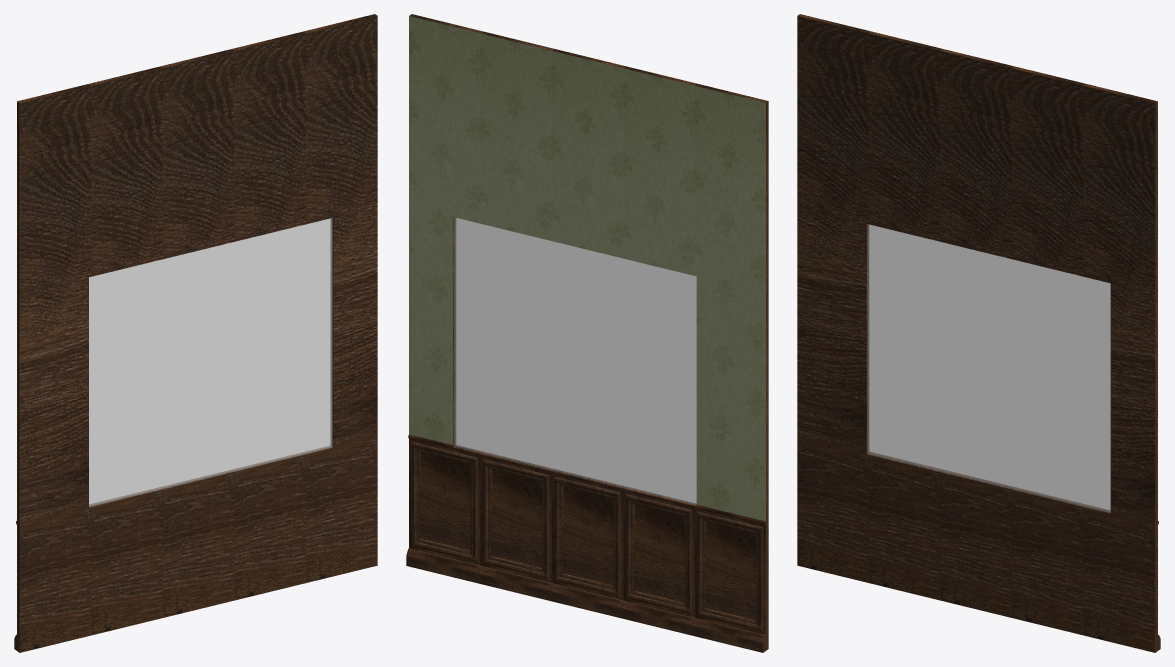
File: Mur_FenetreLarge.fbx
The picture shows the model from 3 angles, left to right: view 1: azimuth 30°, elevation 25°; view 2: azimuth 150°, elevation 25°; view 3: azimuth 330°, elevation 25°; orthographic projection.
Visible parts, largest first — view 1: Cube, Cube.001; view 2: Cube, Cube.001; view 3: Cube, Cube.001.
Boxes of the visible parts, x1,y1,x2,y2 form: Cube: (14,14,377,652); Cube.001: (89,218,332,506); Cube: (406,14,768,652); Cube.001: (454,217,696,505); Cube: (797,14,1160,652); Cube.001: (867,224,1110,512).
Bounding box in the file's own units: 750 × 1100 × 20.
